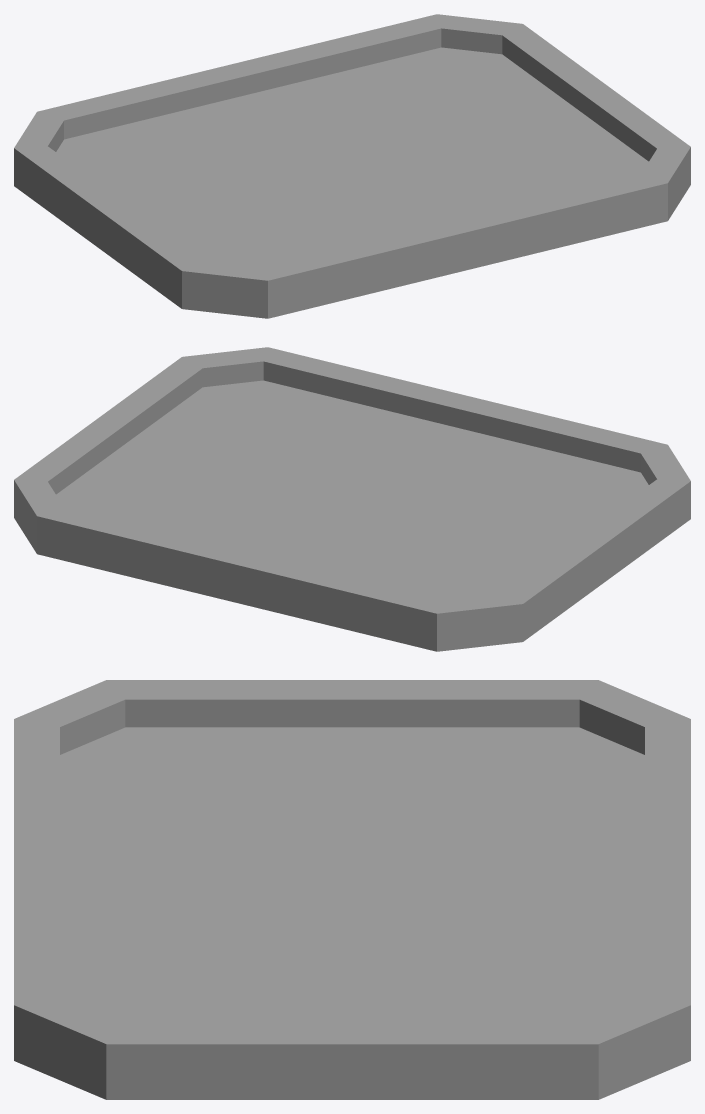
The model's file is Tray_Large.fbx.
3 renders of one model, top to bottom at view 1: azimuth 30°, elevation 25°; view 2: azimuth 150°, elevation 25°; view 3: azimuth 270°, elevation 25°, orthographic. The views are drawn at different scales.
Parts seen in each view (by area): view 1: Tray_Large; view 2: Tray_Large; view 3: Tray_Large.
Boxes of the visible parts, left/top/right/bottom form: Tray_Large: left=14, top=14, right=690, bottom=318; Tray_Large: left=14, top=347, right=690, bottom=651; Tray_Large: left=14, top=680, right=690, bottom=1099.
Bounding box in the file's own units: 1.4 × 0.1 × 1.1.
